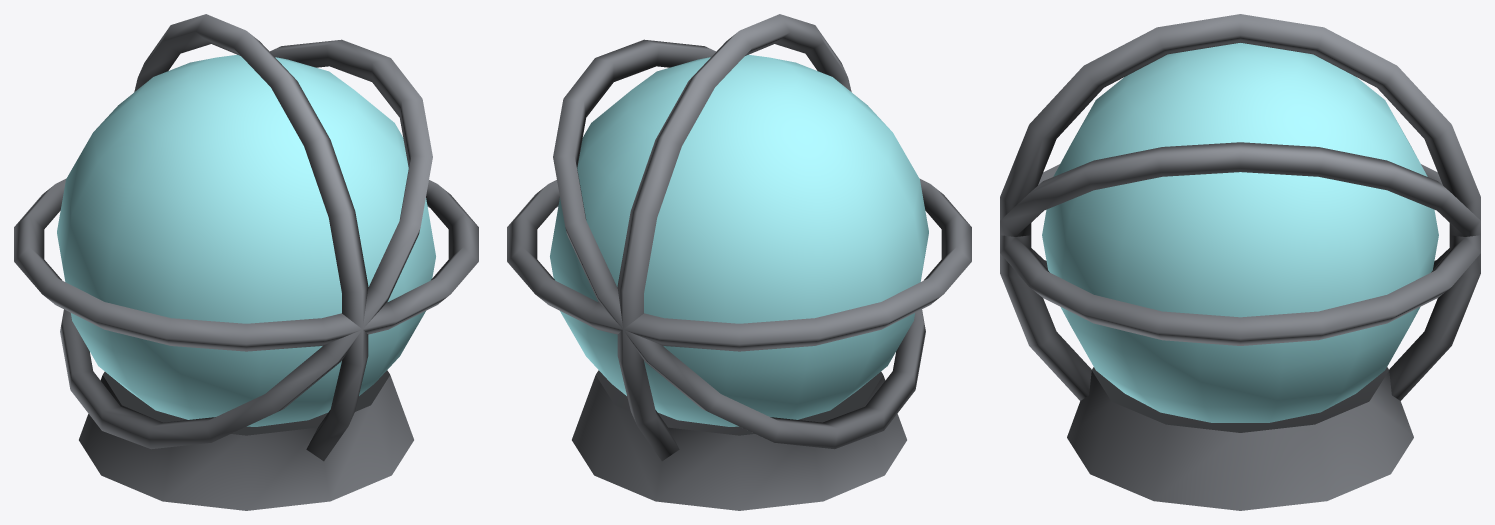
File: PlasmaBomb.fbx
3 views of the same model, side by side, from view 1: azimuth 30°, elevation 25°; view 2: azimuth 150°, elevation 25°; view 3: azimuth 270°, elevation 25° (orthographic). The views are drawn at different scales.
Visible parts, largest first — view 1: PlasmaBomb; view 2: PlasmaBomb; view 3: PlasmaBomb.
Part boxes in pixels (x1=…): PlasmaBomb: x1=14, y1=14, x2=478, y2=510; PlasmaBomb: x1=507, y1=14, x2=971, y2=510; PlasmaBomb: x1=1000, y1=14, x2=1480, y2=510.
Bounding box in the file's own units: 0.3936 × 0.3936 × 0.3876.
